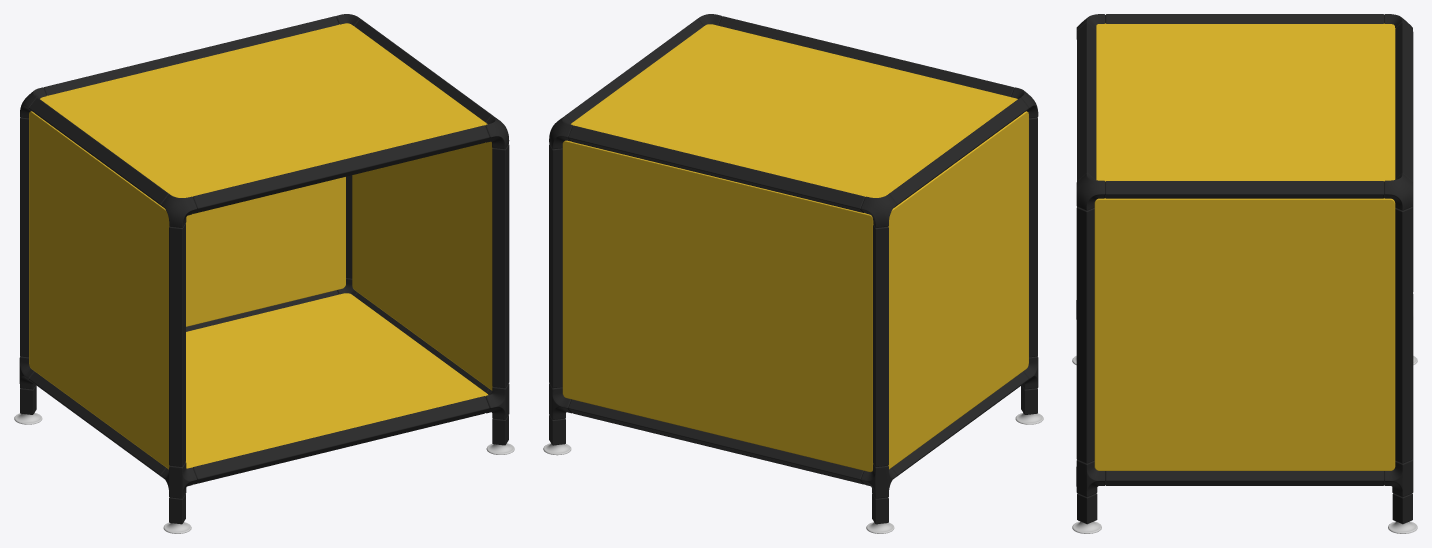
The picture shows the model from 3 angles, left to right: view 1: azimuth 30°, elevation 25°; view 2: azimuth 150°, elevation 25°; view 3: azimuth 270°, elevation 25°; orthographic projection. The views are drawn at different scales.
Visible parts, largest first — view 1: 479x374x374; view 2: 479x374x374; view 3: 479x374x374.
Part boxes in pixels (x1,y1,x2,y2): 479x374x374: (14, 14, 514, 533); 479x374x374: (543, 14, 1043, 533); 479x374x374: (1072, 14, 1417, 533).
Bounding box in the file's own units: 0.5689 × 0.5133 × 0.4632.
